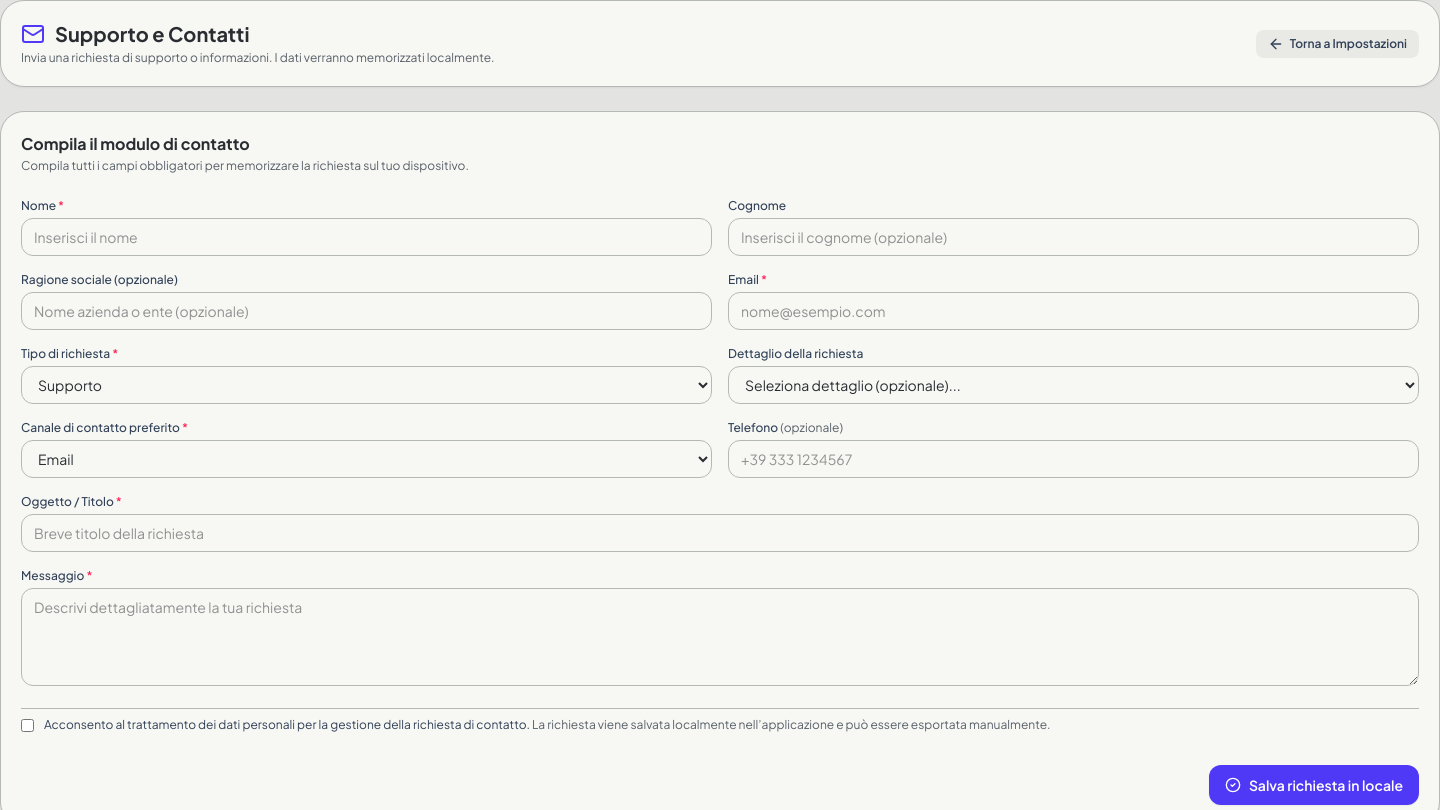
Scenario: Sottofase 2.3.B.3 - Modulo UI Supporto e Contatti (/settings/contact) › 2.ter: Validazione telefono obbligatorio se canale preferito è Telefono
Type "Marco" into the field labelled "Nome *" at (366, 237), box 21,218 -> 712,256
Type "marco@example.com" into the field labelled "Email *" at (1074, 311), box 728,292 -> 1419,330
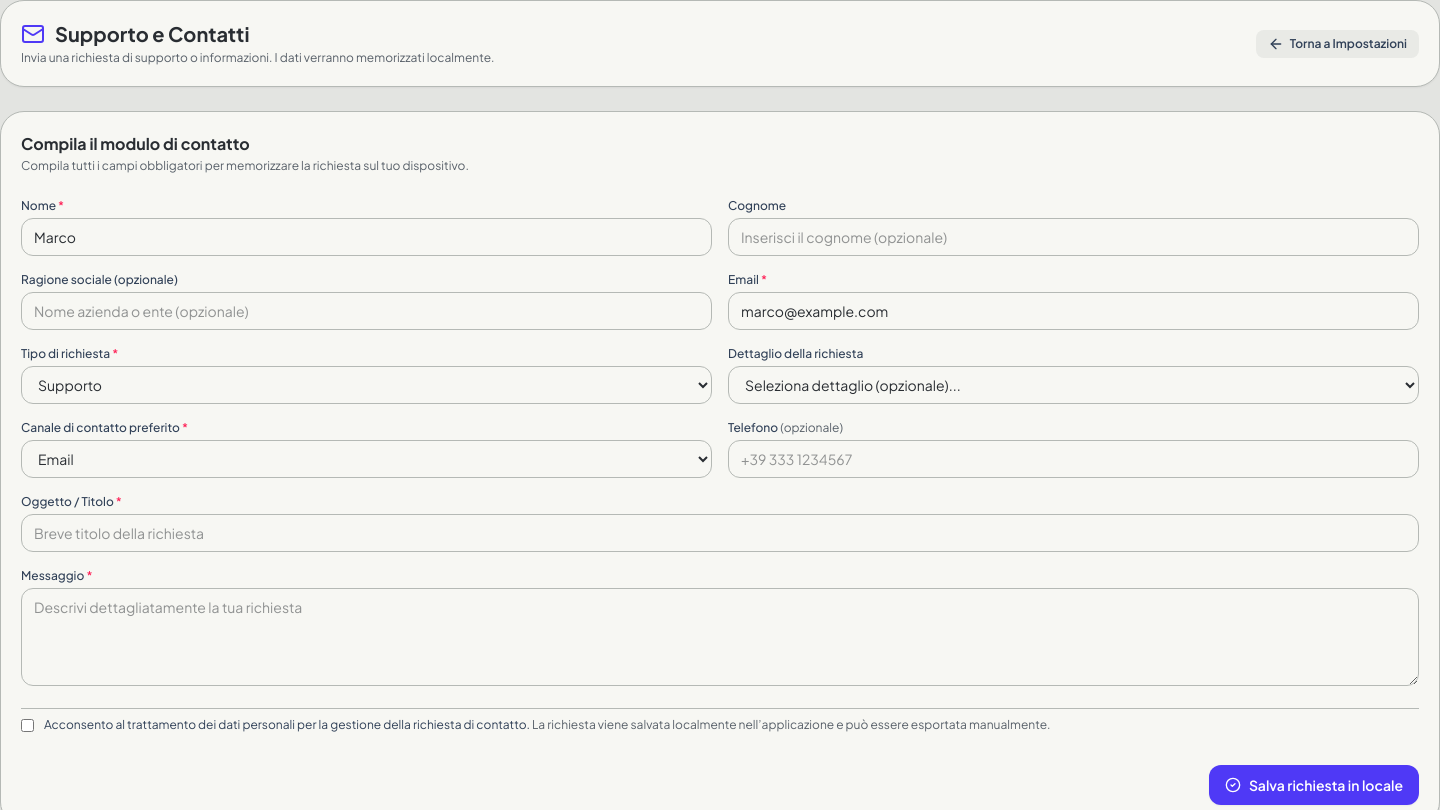
Select "Telefono" in the dropdown labelled "Canale di contatto preferito *" at (366, 459), box 21,440 -> 712,478
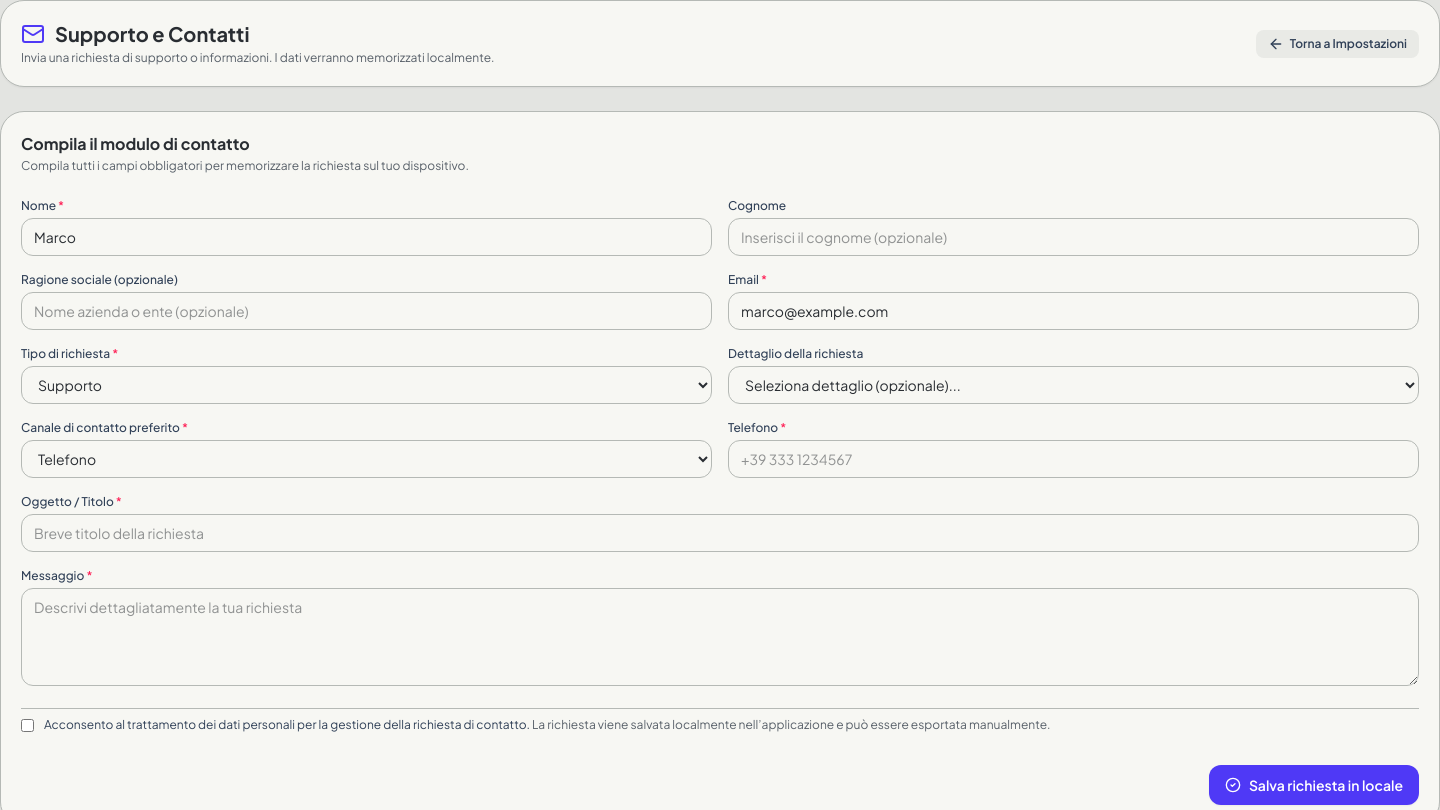
Type "Oggetto test" into the field labelled "Oggetto / Titolo *" at (720, 533), box 21,514 -> 1419,552
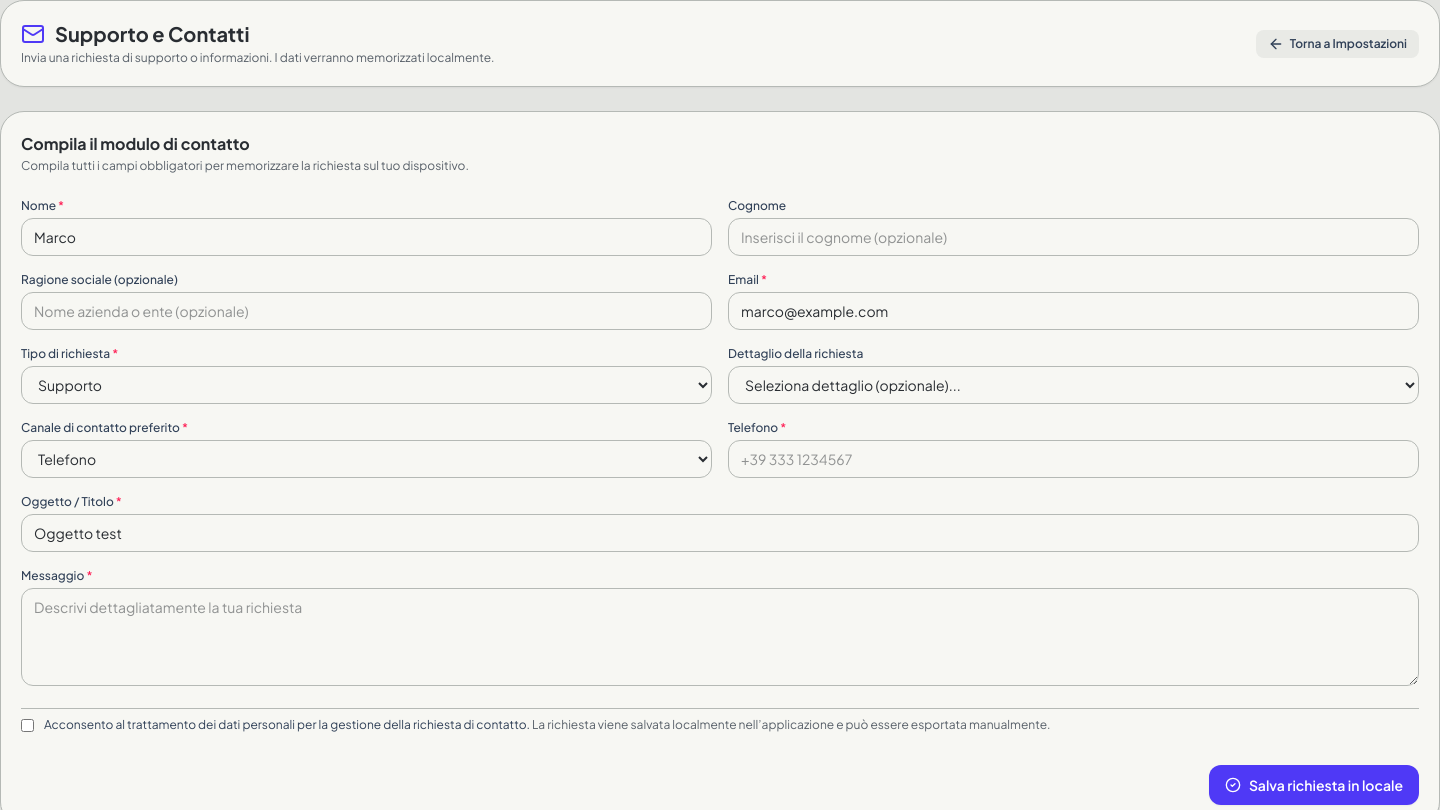
Type "Messaggio senza telefono" into the text box labelled "Messaggio *" at (720, 637), box 21,588 -> 1419,686
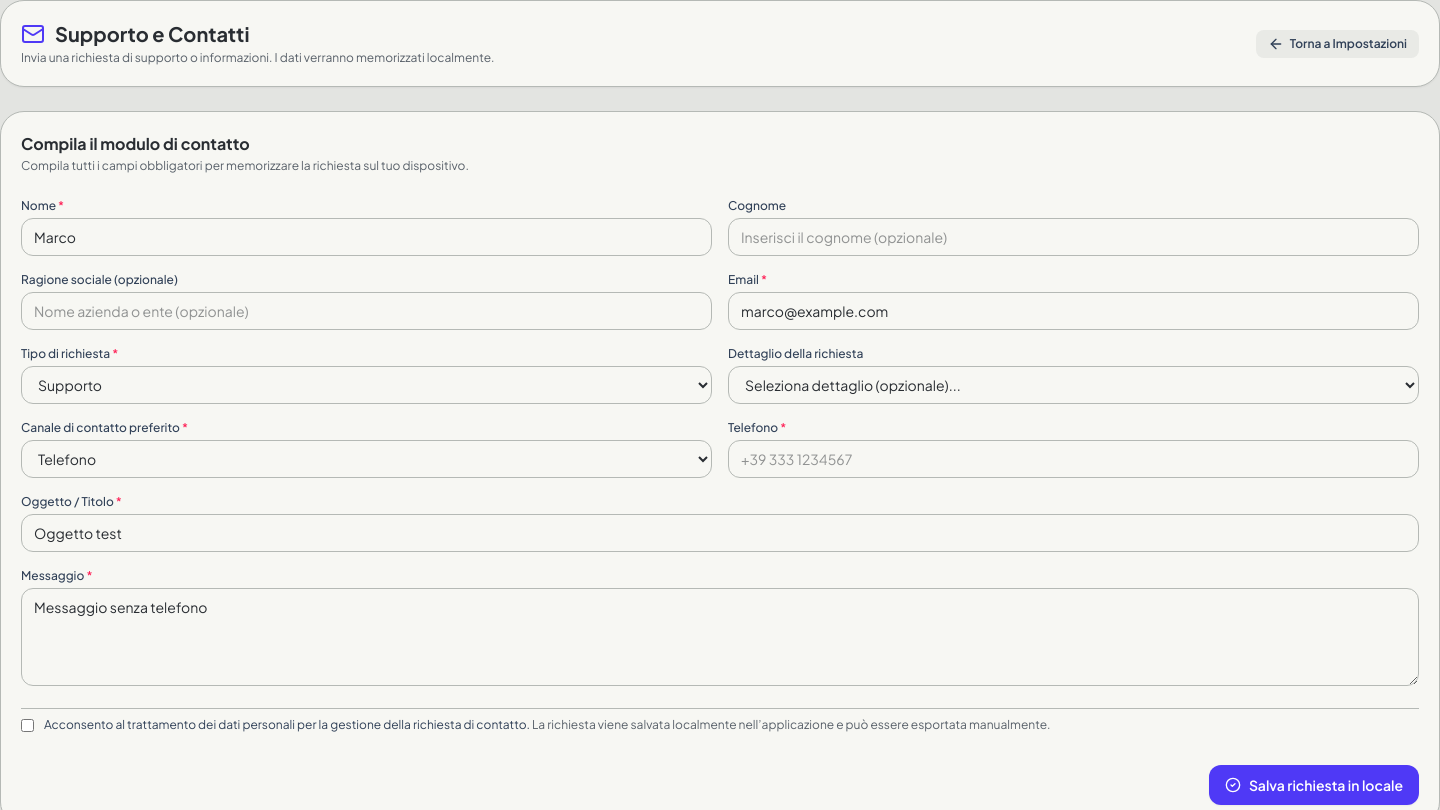
Click the checkbox labelled "Acconsento al trattamento dei dati personali" at (28, 726), box 21,719 -> 34,732
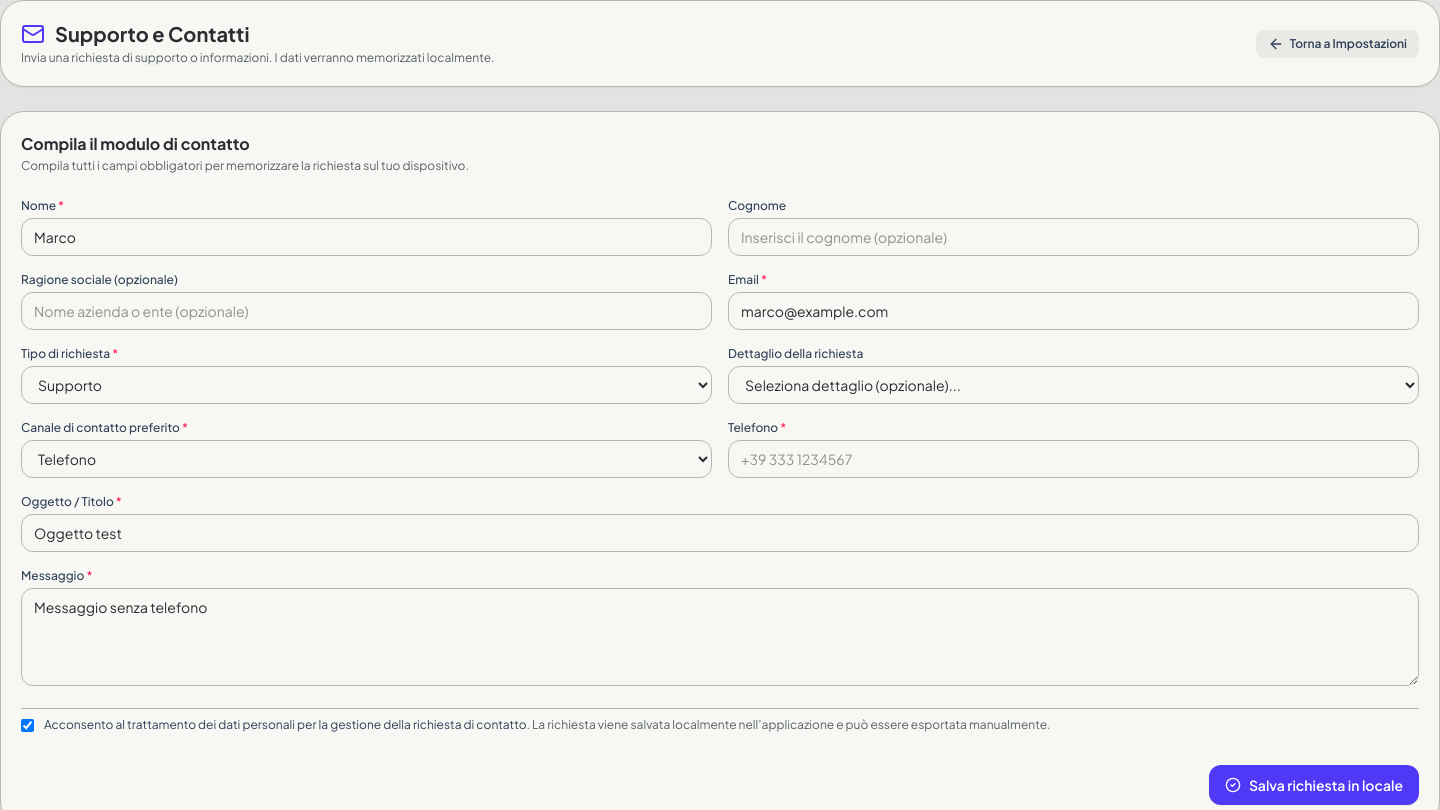
Submit the form named "Salva richiesta in locale"
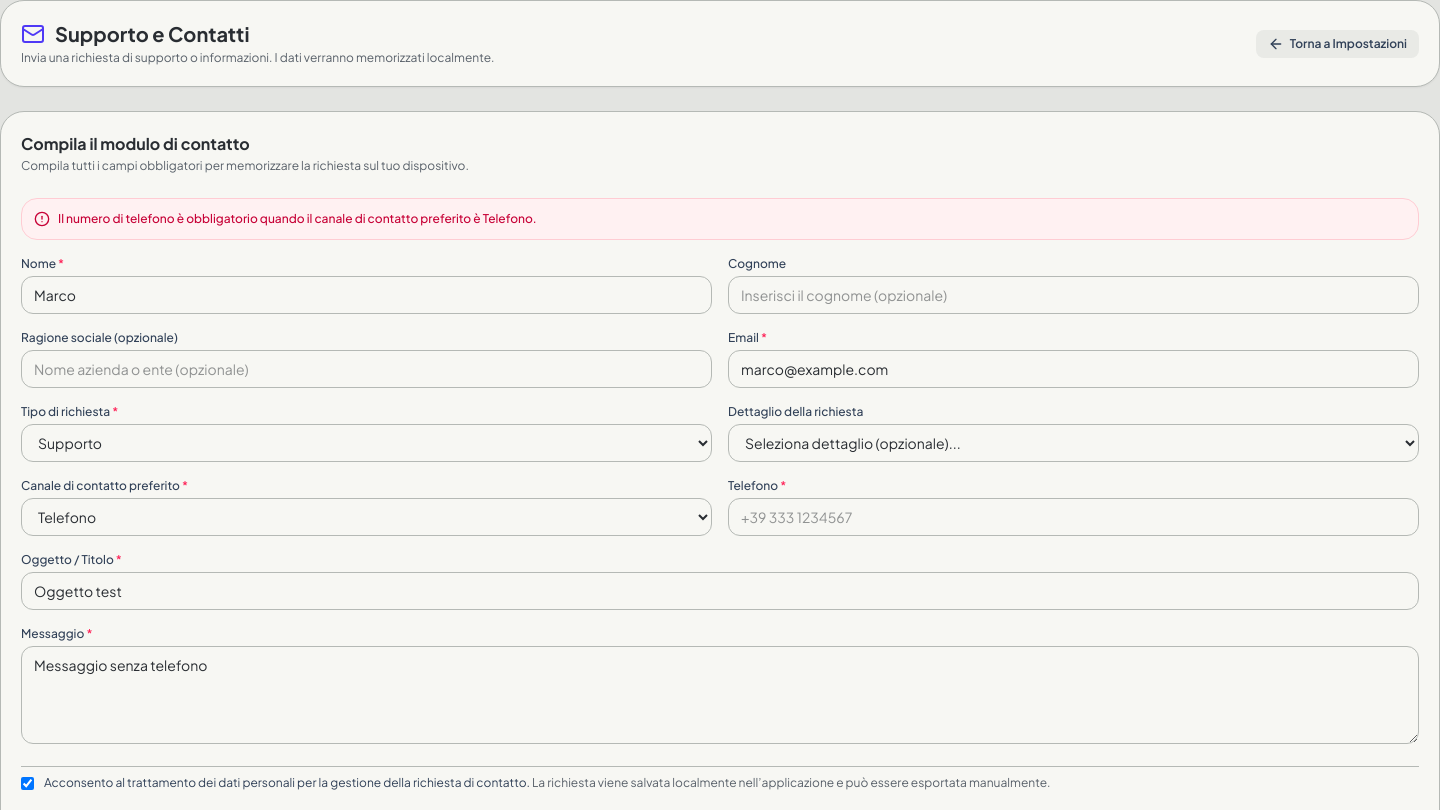
expect the text "Il numero di telefono è obbligatorio quando il canale di contatto preferito è Telefono" is shown: met, box 58,211 -> 537,226
